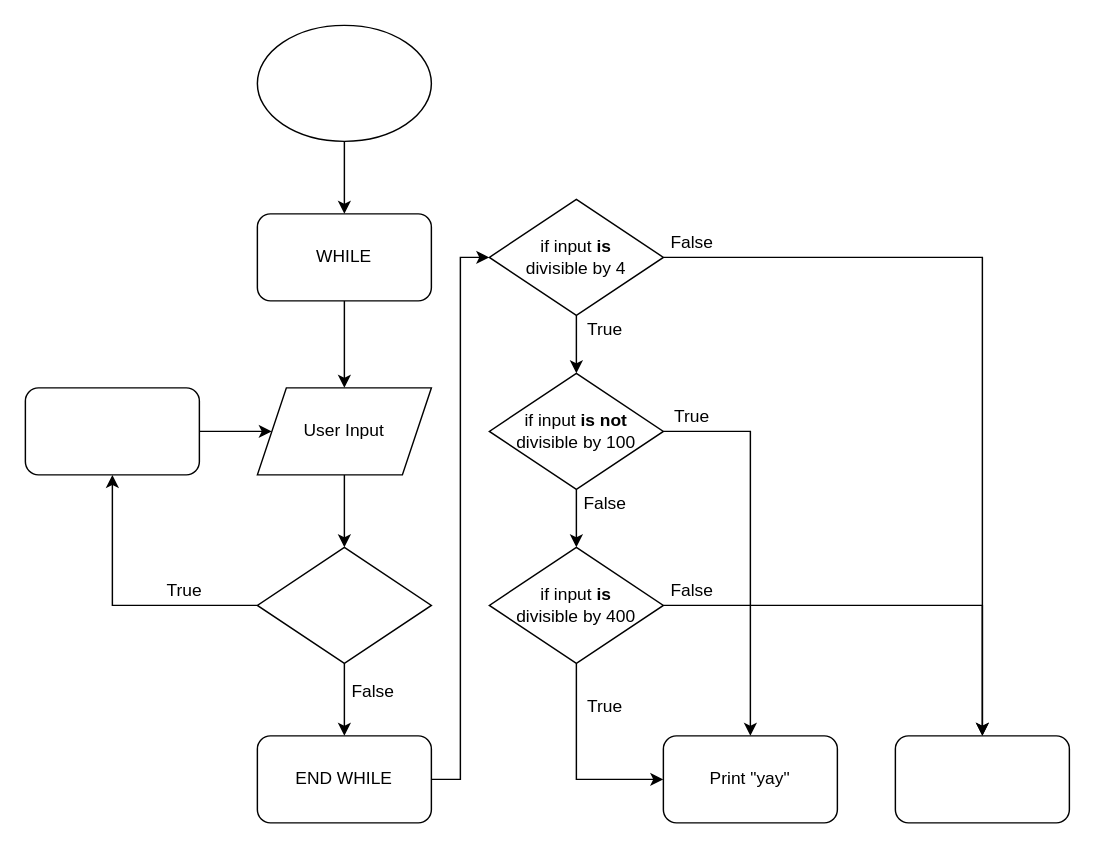
This 1095x848 diagram has some shape labels left out. The centre of each missing label's shape, as x and y in pixels:
Is Not Valid Input: the point at 343,604
Print "nay": the point at 981,778
Start: the point at 343,82
Throw New Exception: the point at 111,430
